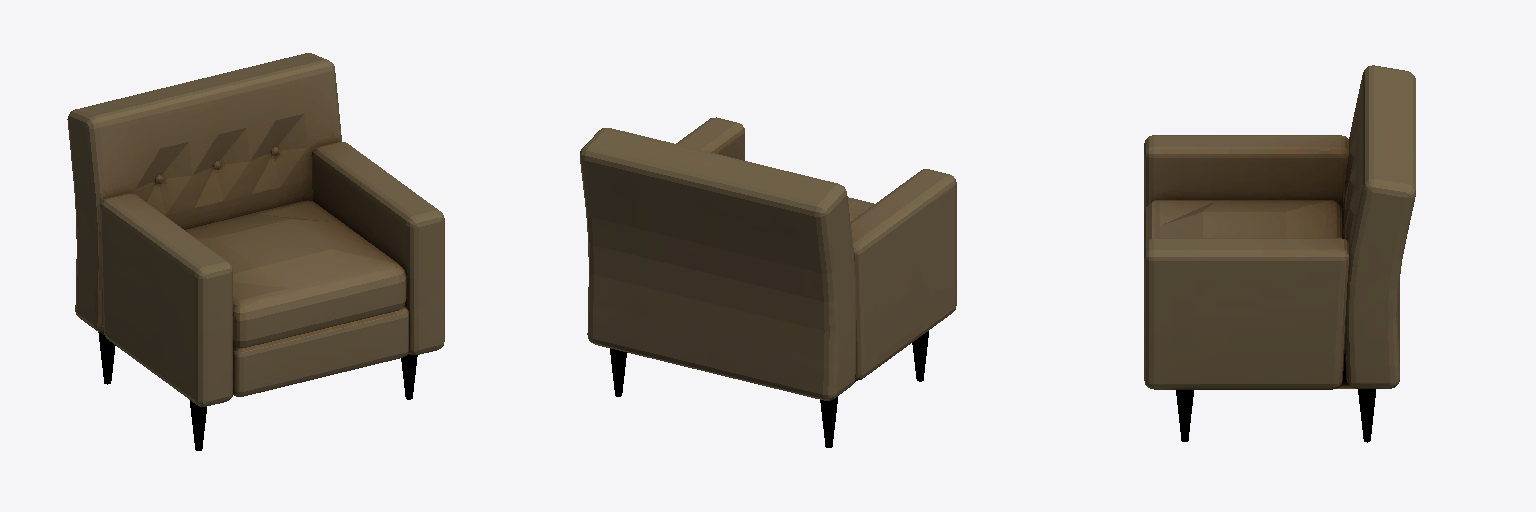
3 views of the same model, side by side, from view 1: azimuth 30°, elevation 25°; view 2: azimuth 150°, elevation 25°; view 3: azimuth 270°, elevation 25° (orthographic).
Parts seen in each view (by area): view 1: armchair_armchair_armchair; view 2: armchair_armchair_armchair; view 3: armchair_armchair_armchair.
Part boxes in pixels (left/top/right/bottom): armchair_armchair_armchair: left=67, top=53, right=444, bottom=450; armchair_armchair_armchair: left=580, top=117, right=956, bottom=447; armchair_armchair_armchair: left=1144, top=65, right=1415, bottom=442.
Size of the model in its own units: 2.07 by 2.12 by 1.96.
Materials: 1 (1 with a texture image).